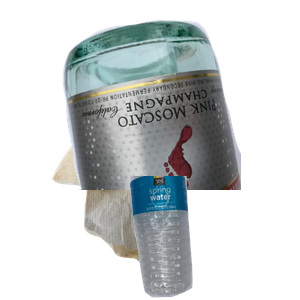glass: (60, 17, 300, 197)
metal: (99, 68, 244, 184)
plastic: (127, 176, 300, 300)
trash: (50, 120, 219, 300)
